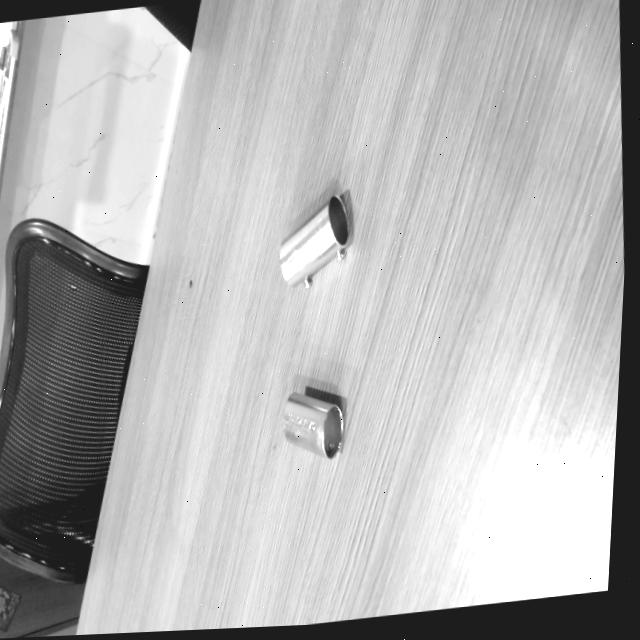Co_Lon: (261, 191, 371, 292)
Co_Nho: (274, 389, 351, 459)
